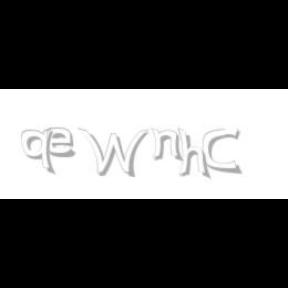C: (204, 128, 240, 174)
W: (77, 128, 149, 178)
e: (46, 128, 80, 158)
h: (178, 128, 212, 180)
n: (150, 128, 184, 162)
q: (21, 128, 57, 176)
